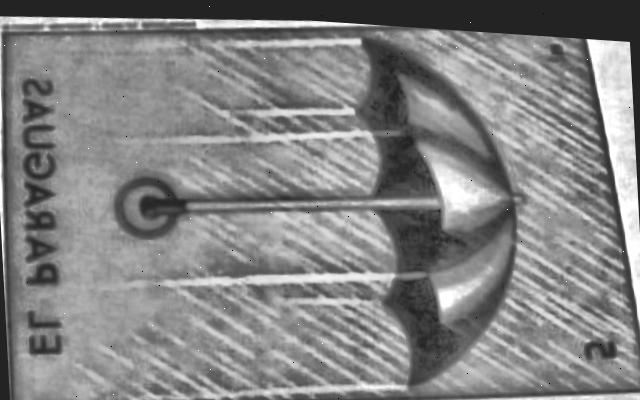El Paraguas: (2, 23, 640, 400)
